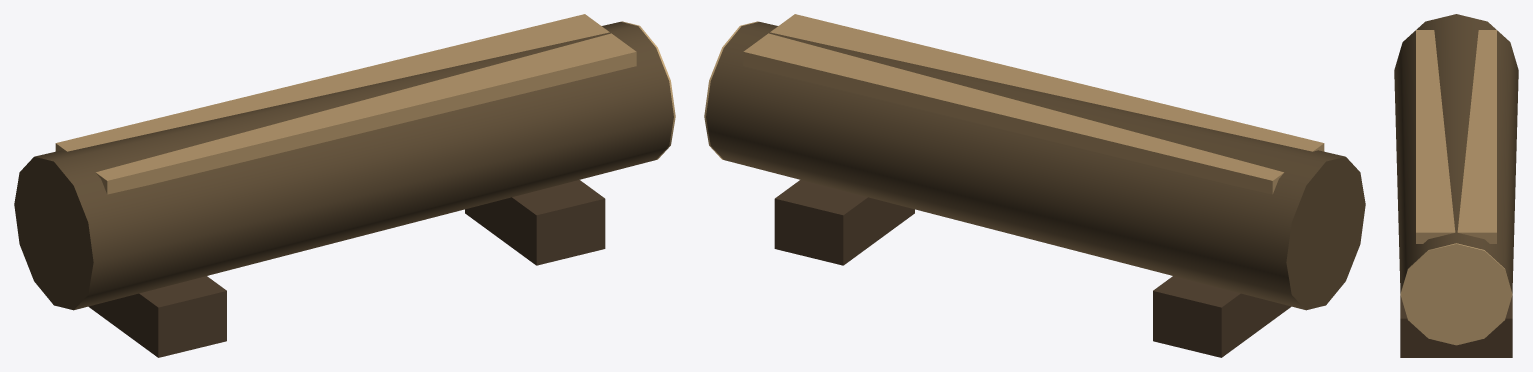
File: kolody.glb
The picture shows the model from 3 angles, left to right: view 1: azimuth 30°, elevation 25°; view 2: azimuth 150°, elevation 25°; view 3: azimuth 270°, elevation 25°; orthographic projection. The views are drawn at different scales.
Parts seen in each view (by area): view 1: log, seat, chock (×2); view 2: log, seat, chock (×2); view 3: log, seat, end, chock.
Part boxes in pixels (x1,y1,x2,y2): log: (14, 22, 673, 310); seat: (55, 14, 636, 194); chock (×2): (88, 180, 605, 357); log: (706, 22, 1365, 310); seat: (743, 14, 1324, 194); chock (×2): (774, 180, 1291, 357); log: (1394, 14, 1518, 293); seat: (1416, 30, 1496, 243); end: (1400, 243, 1512, 345); chock: (1400, 295, 1512, 357).
Bounding box in the file's own units: 1.71 × 0.52 × 0.4.
